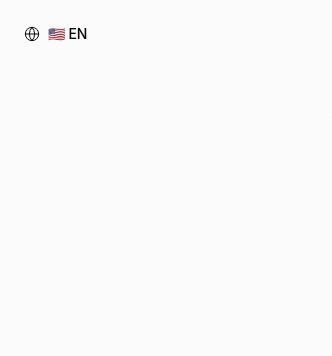
LanguageSwitcher › offers exactly the locales derived from routing.locales (count, not hardcoded)
Click the button with aria-label "change_language".
click(56, 34)  # box left=12, top=12, right=99, bottom=56
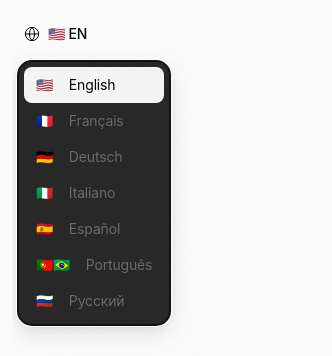
Check: the number of menu items is 7
